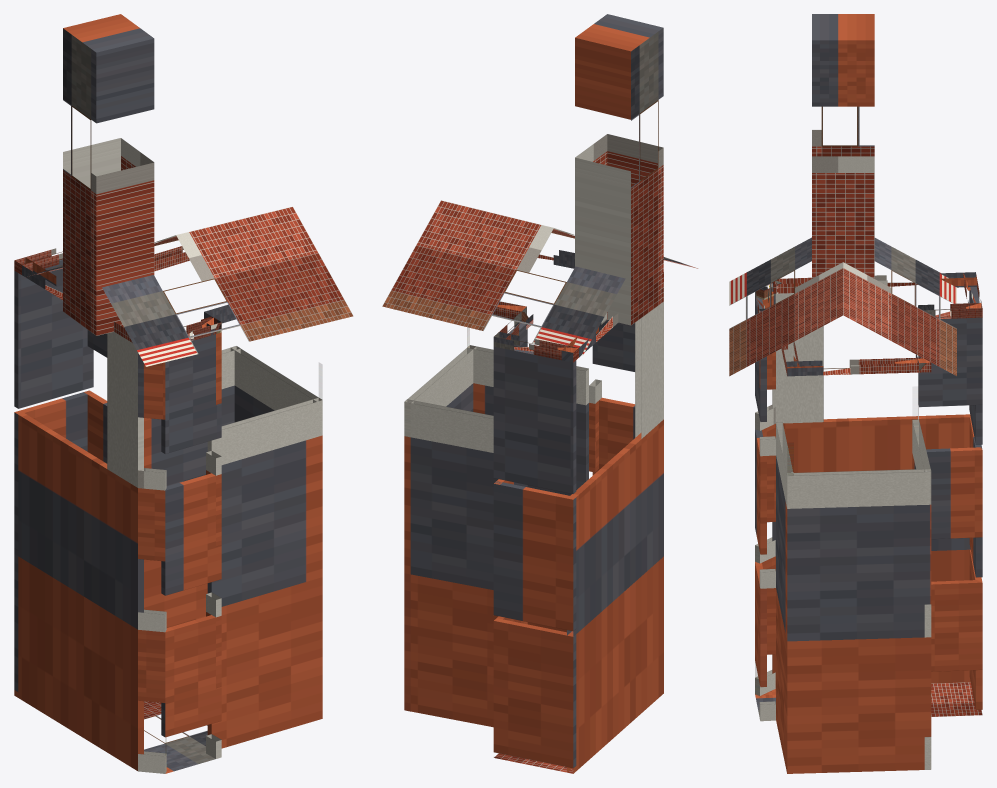
3 renders of one model, left to right at view 1: azimuth 30°, elevation 25°; view 2: azimuth 150°, elevation 25°; view 3: azimuth 270°, elevation 25°, orthographic. The views are drawn at different scales.
Parts seen in each view (by area): view 1: 1106966931__wall_8_xb, 1106966931__wall_3_xb, 1106966931__chimney_0_xb, 1106966931_roof_-1_xb, 1106966931__wall_1_xb, 1106966931__wall_7_xb, 1106966931__wall_0_xb, 1106966931__wall_5_xb, 1106966931__wall_4_xb, 1106966931__wall_2_xb, 1106966931__base, 1106966931__wall_6_xb (+2 smaller); view 2: 1106966931__wall_7_xb, 1106966931__wall_8_xb, 1106966931__wall_5_xb, 1106966931__chimney_0_xb, 1106966931_roof_1_xb, 1106966931__wall_4_xb, 1106966931__wall_1_xb, 1106966931__wall_3_xb, 1106966931__cornice_7, 1106966931__wall_2_xb, 1106966931__cornice_8; view 3: 1106966931__wall_4_xb, 1106966931__wall_8_xb, 1106966931__chimney_0_xb, 1106966931__wall_6_xb, 1106966931_roof_-1_xb, 1106966931_roof_1_xb, 1106966931__wall_3_xb, 1106966931__wall_1_xb, 1106966931__wall_2_xb, 1106966931__cornice_4, 1106966931__wall_7_xb, 1106966931__base (+4 smaller).
Part boxes in pixels (x1,y1,x2,y2): 1106966931__wall_8_xb: (14, 332, 143, 770); 1106966931__wall_3_xb: (207, 397, 322, 748); 1106966931__chimney_0_xb: (63, 14, 154, 335); 1106966931_roof_-1_xb: (102, 206, 353, 366); 1106966931__wall_1_xb: (161, 334, 221, 737); 1106966931__wall_7_xb: (14, 259, 93, 691); 1106966931__wall_0_xb: (138, 353, 166, 773); 1106966931__wall_5_xb: (144, 346, 240, 627); 1106966931__wall_4_xb: (230, 346, 318, 422); 1106966931__wall_2_xb: (206, 332, 221, 758); 1106966931__base: (144, 701, 215, 773); 1106966931__wall_6_xb: (84, 330, 107, 463); 1106966931__wall_7_xb: (493, 346, 576, 768); 1106966931__wall_8_xb: (567, 282, 663, 773); 1106966931__wall_5_xb: (407, 399, 498, 727); 1106966931__chimney_0_xb: (575, 14, 663, 325); 1106966931_roof_1_xb: (382, 200, 625, 355); 1106966931__wall_4_xb: (404, 345, 476, 711); 1106966931__wall_1_xb: (592, 320, 634, 475); 1106966931__wall_3_xb: (467, 345, 588, 632); 1106966931__cornice_7: (493, 332, 578, 362); 1106966931__wall_2_xb: (589, 327, 601, 472); 1106966931__cornice_8: (561, 272, 663, 362); 1106966931__wall_4_xb: (786, 469, 931, 773); 1106966931__wall_8_xb: (772, 293, 970, 688); 1106966931__chimney_0_xb: (812, 14, 874, 278); 1106966931__wall_6_xb: (918, 317, 982, 671); 1106966931_roof_-1_xb: (729, 237, 843, 376); 1106966931_roof_1_xb: (843, 238, 956, 375); 1106966931__wall_3_xb: (776, 422, 793, 773); 1106966931__wall_1_xb: (755, 297, 766, 686); 1106966931__wall_2_xb: (759, 351, 775, 721); 1106966931__cornice_4: (786, 357, 931, 376); 1106966931__wall_7_xb: (969, 287, 982, 709); 1106966931__base: (755, 682, 982, 716).
Size of the model in its own units: 0.5512 by 1.75 by 0.6056.
Materials: 1 (1 with a texture image).
